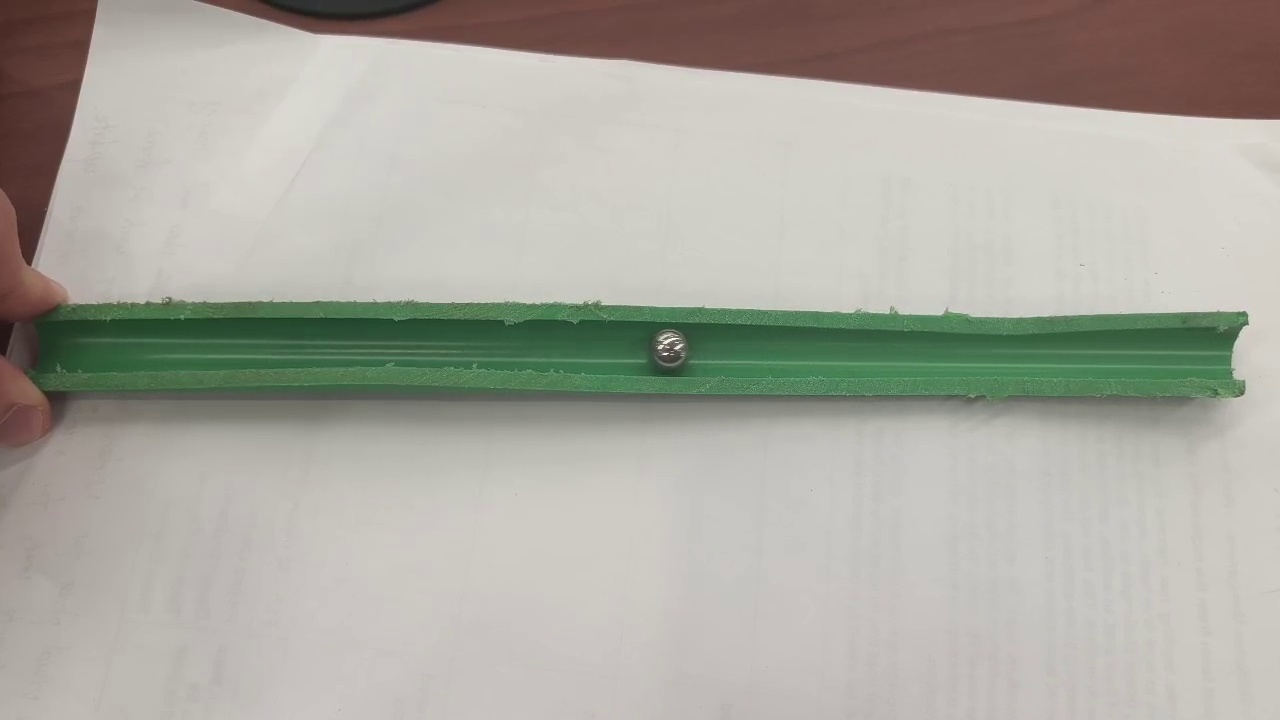ball: (653, 330, 687, 367)
